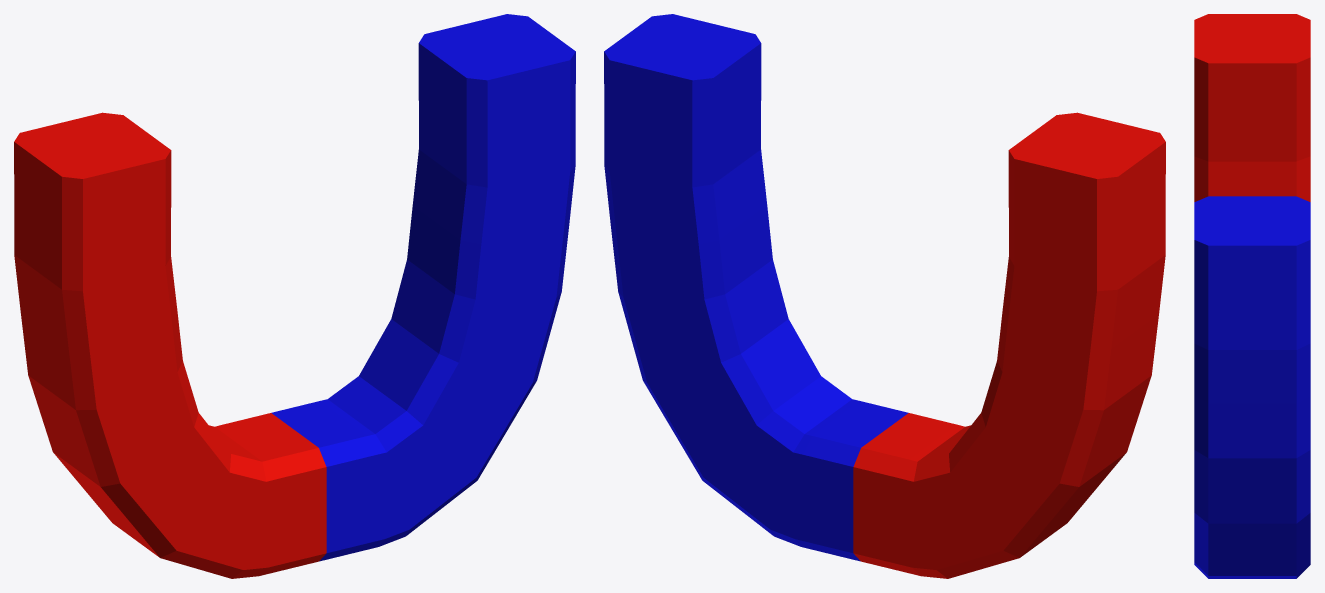
Rendered from Magnit2.fbx.
The picture shows the model from 3 angles, left to right: view 1: azimuth 30°, elevation 25°; view 2: azimuth 150°, elevation 25°; view 3: azimuth 270°, elevation 25°; orthographic projection. The views are drawn at different scales.
Parts seen in each view (by area): view 1: Plane; view 2: Plane; view 3: Plane.
Boxes of the visible parts, bbox=[...] form: Plane: bbox=[14, 14, 575, 578]; Plane: bbox=[604, 14, 1165, 578]; Plane: bbox=[1194, 14, 1310, 578].
Bounding box in the file's own units: 51.18 × 42.59 × 10.88.
